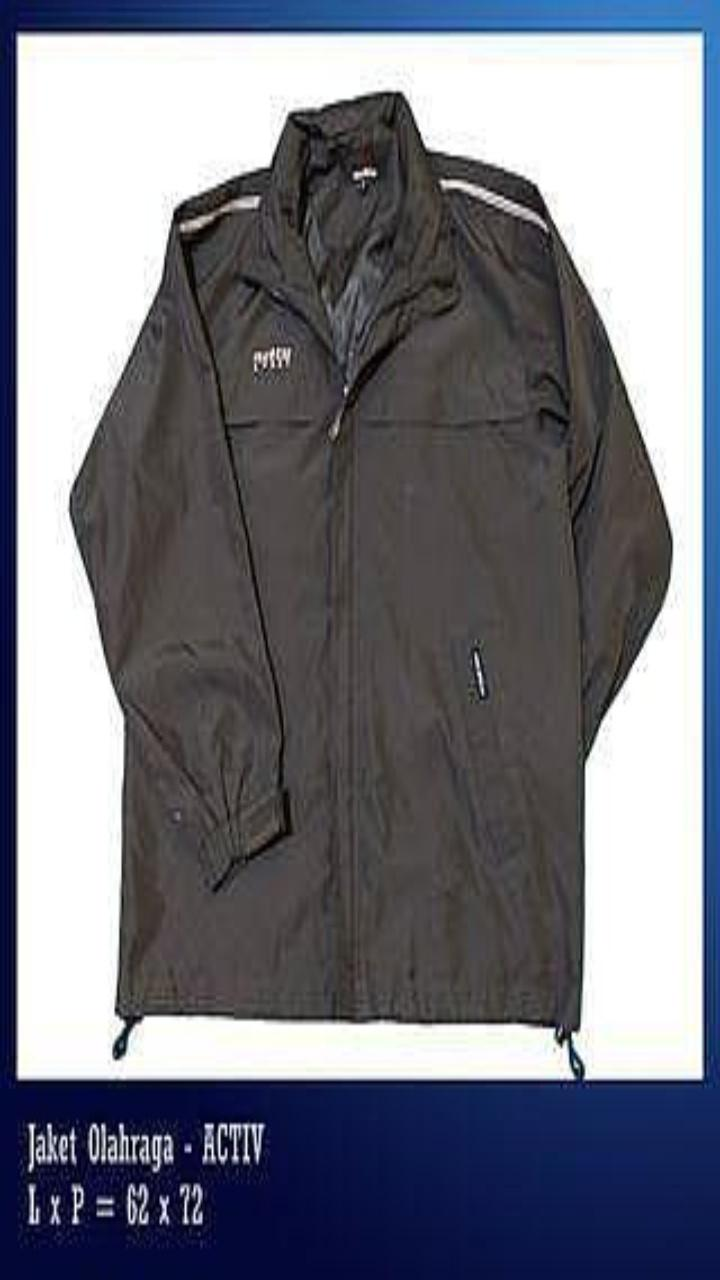Sports_Jacket: (71, 92, 670, 1052)
